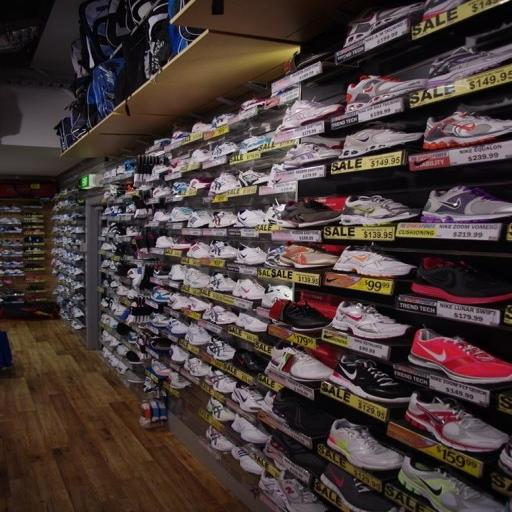shoe: (333, 204, 512, 277), (421, 123, 512, 223), (320, 463, 455, 512), (405, 390, 508, 452), (398, 456, 503, 512), (408, 328, 512, 384), (411, 258, 512, 304), (262, 408, 327, 473), (329, 354, 411, 403), (327, 419, 403, 470), (344, 2, 424, 47), (427, 46, 511, 88), (423, 112, 512, 150), (330, 301, 411, 340), (272, 388, 335, 437), (346, 76, 427, 112), (258, 473, 327, 512), (341, 128, 423, 159), (340, 195, 420, 225), (265, 347, 333, 381), (278, 100, 345, 132), (269, 299, 331, 332), (118, 286, 171, 320), (277, 200, 340, 228), (283, 142, 341, 170), (279, 244, 338, 269), (231, 414, 270, 444), (221, 274, 265, 300), (307, 342, 345, 370), (113, 310, 169, 328), (231, 382, 263, 413), (231, 446, 265, 475), (422, 0, 467, 21), (205, 368, 238, 394), (233, 349, 267, 373), (206, 396, 235, 422), (261, 285, 293, 308), (206, 426, 234, 452), (206, 337, 236, 361), (202, 305, 237, 325), (210, 172, 241, 194), (235, 244, 267, 265), (239, 134, 272, 154), (236, 312, 268, 332), (184, 324, 212, 346), (264, 245, 290, 268), (208, 272, 237, 292), (238, 169, 270, 187), (237, 210, 268, 228), (183, 268, 210, 288), (498, 438, 512, 476), (209, 240, 237, 259), (265, 200, 286, 224), (183, 358, 211, 376), (209, 211, 238, 228), (167, 371, 192, 389), (187, 210, 212, 228), (212, 142, 239, 158), (211, 113, 236, 130), (169, 345, 190, 364), (239, 98, 267, 112), (186, 242, 209, 259), (187, 296, 211, 312), (151, 360, 171, 379), (169, 207, 194, 222), (167, 318, 189, 335), (169, 294, 191, 310), (168, 264, 188, 281), (189, 149, 213, 163), (261, 391, 276, 413), (189, 176, 212, 190), (171, 236, 194, 250), (168, 130, 190, 144), (191, 122, 213, 134), (155, 235, 173, 249), (152, 186, 172, 198), (152, 210, 171, 222)
